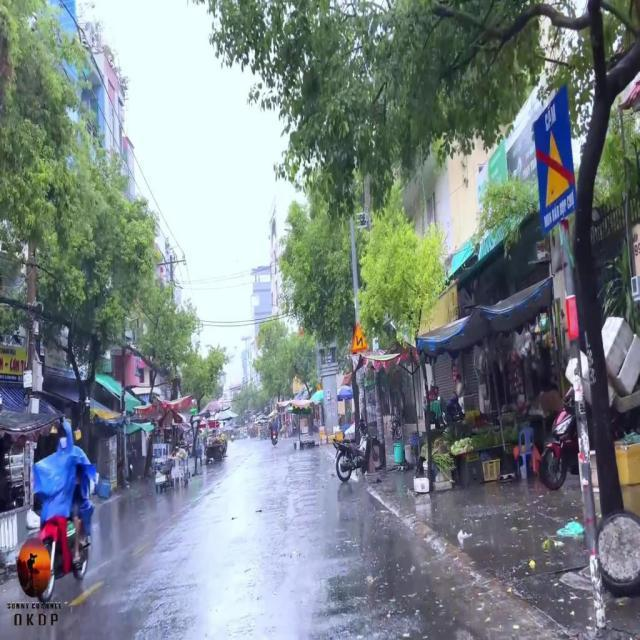201-cho-ngoat-nguy-hiem: (350, 323, 370, 352)
